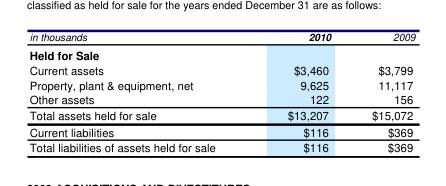table: (28, 29, 414, 154)
table column: (28, 29, 250, 154), (250, 29, 350, 154), (350, 29, 414, 154)
table column header: (28, 29, 414, 45)
table projected row header: (28, 45, 414, 62)
table row: (28, 45, 414, 62), (28, 122, 414, 139), (28, 29, 414, 45), (28, 106, 414, 122), (28, 76, 414, 91), (28, 91, 414, 106), (28, 139, 414, 154), (28, 62, 414, 76)
